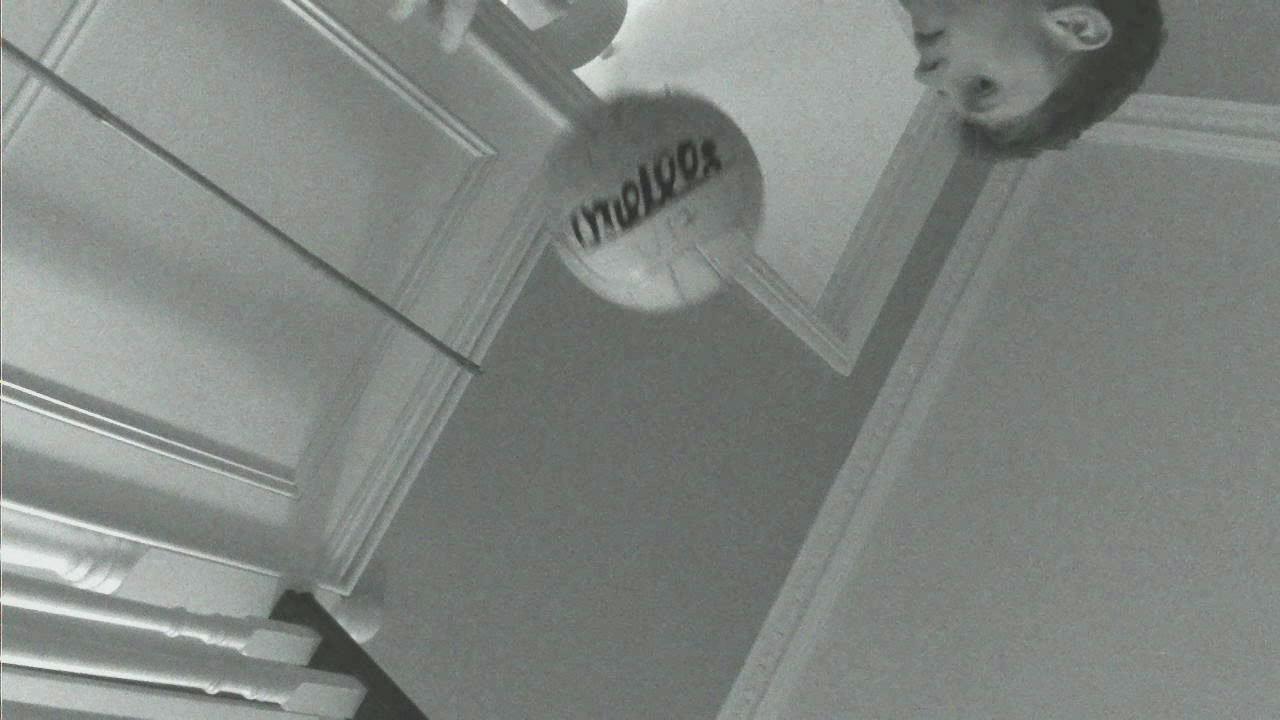Football-Spotter: (544, 93, 764, 312)
